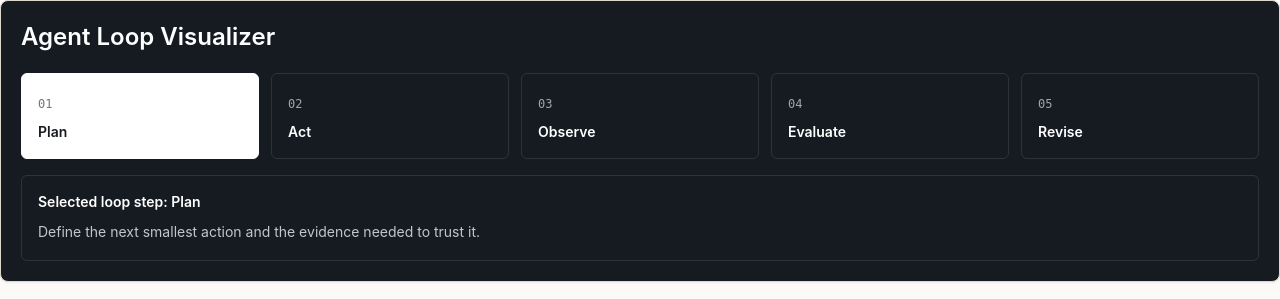
Test case: Interactive learning lab states › makes the agent loop selectable and explains the current loop step
Expected: the text "Selected loop step: Plan" is shown, [38,193,201,210]
Expected: the text "Define the next smallest action and the evidence needed" is shown, [38,223,480,240]
What coordinates should you click on to do the following:
click the button with aria-label "Select Observe"
I would click on:
 (640, 116)
Its box is [521,73,759,159].
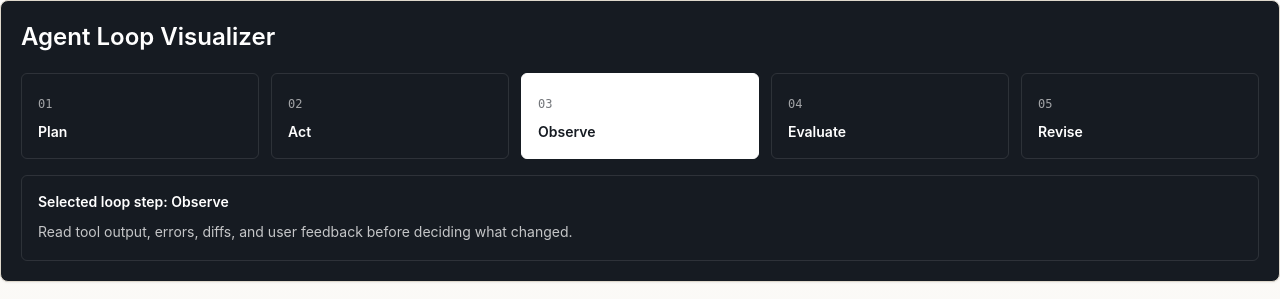
Result: the text "Selected loop step: Observe" is shown at [38,193,229,210]
Result: the text "Read tool output, errors, diffs, and user feedback" is shown at [38,223,573,240]
